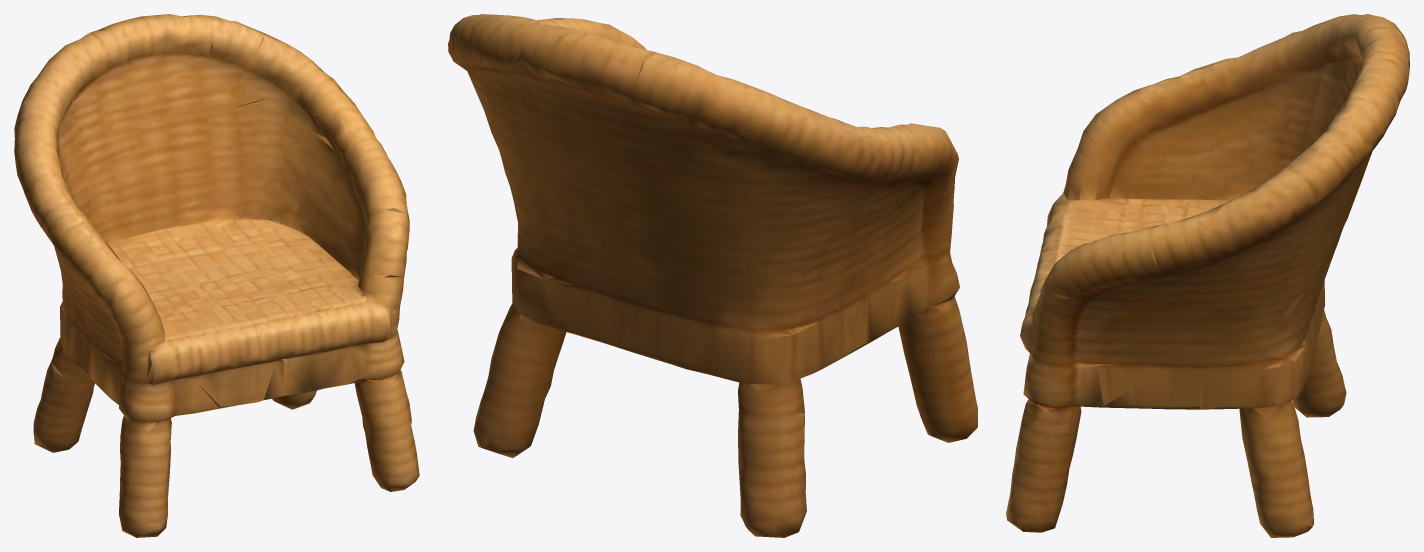
Rendered from chair06.glb.
3 renders of one model, left to right at view 1: azimuth 30°, elevation 25°; view 2: azimuth 150°, elevation 25°; view 3: azimuth 270°, elevation 25°, orthographic. The views are drawn at different scales.
Size of the model in its own units: 0.1966 by 0.2168 by 0.1862.
1 material, 1 textured.
